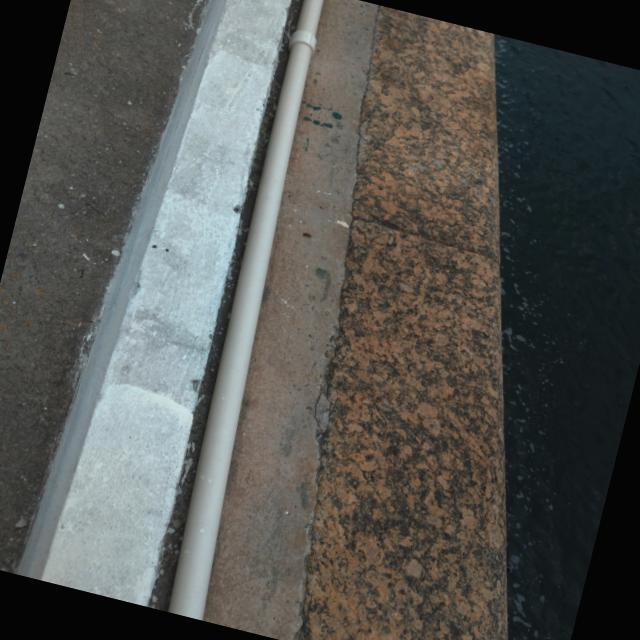gas: (143, 0, 366, 623)
